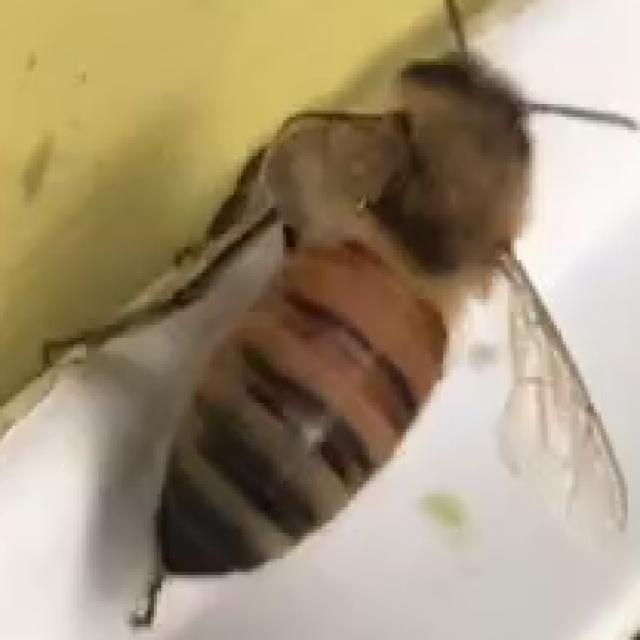honeybee: (132, 35, 546, 638)
